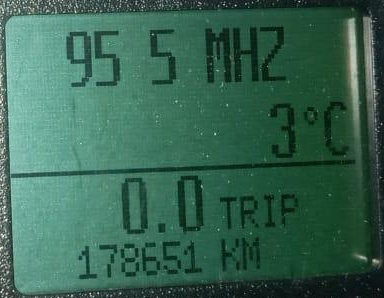-: (156, 221, 166, 234)
0: (118, 175, 148, 234), (175, 173, 204, 232)
1: (75, 244, 98, 278), (182, 240, 203, 273)
3: (269, 101, 296, 157)
5: (148, 28, 177, 84), (93, 29, 121, 87), (161, 240, 181, 273)
6: (140, 241, 159, 275)
7: (98, 243, 116, 277)
8: (119, 242, 138, 276)
9: (64, 30, 92, 86)
X: (202, 26, 232, 84), (258, 25, 288, 82), (322, 102, 350, 155), (232, 25, 257, 82), (239, 195, 259, 229), (241, 235, 259, 270), (220, 238, 239, 271), (218, 196, 236, 230), (280, 193, 297, 227), (263, 193, 274, 226)
